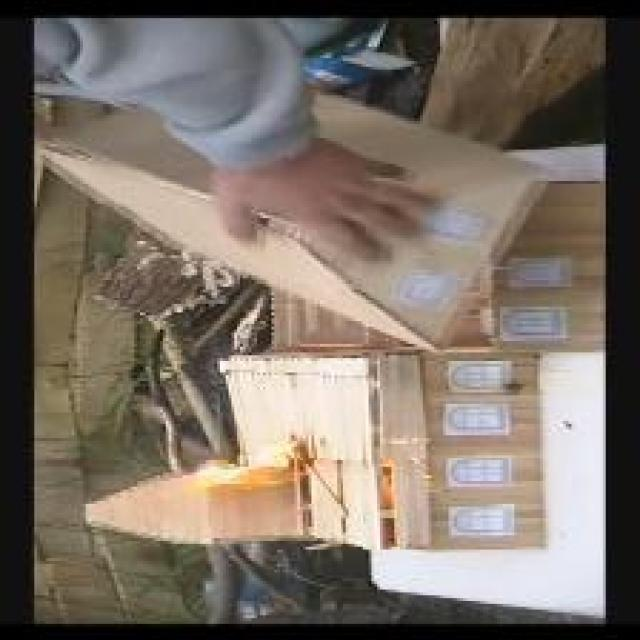Fire: (190, 440, 296, 483)
